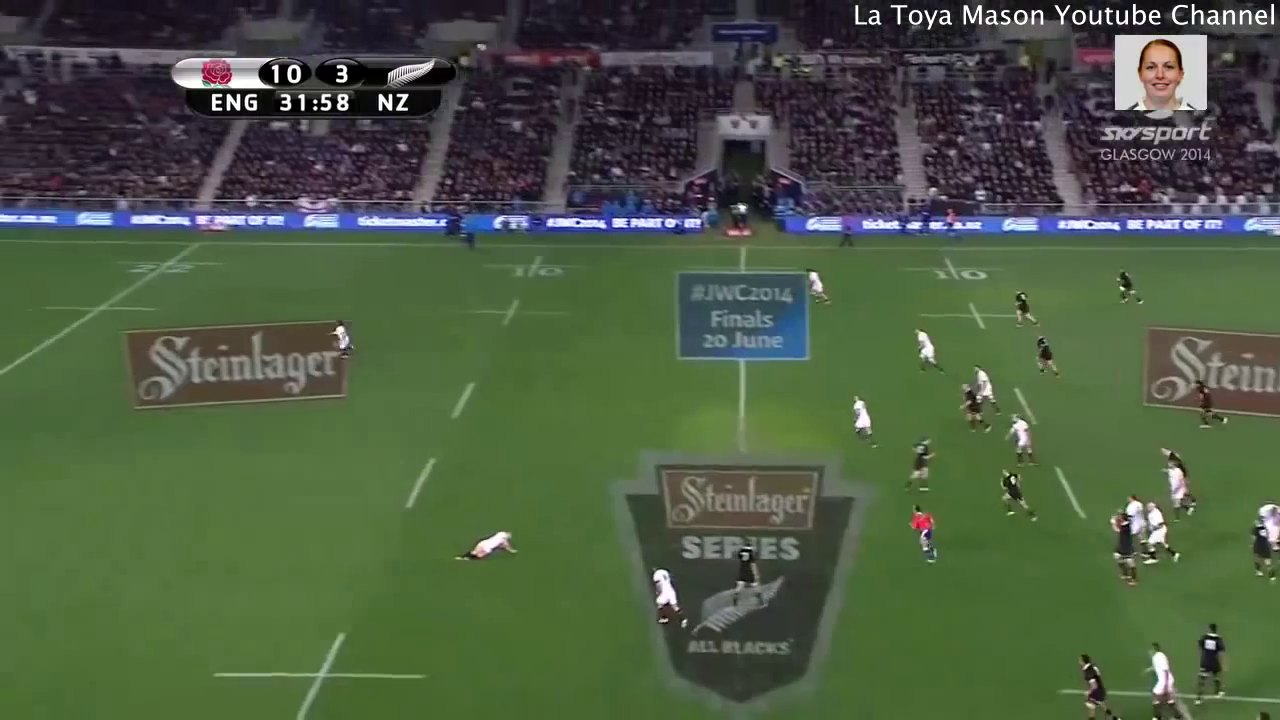10_metre: (915, 300, 1042, 332), (462, 296, 575, 330), (479, 253, 588, 284), (896, 255, 1007, 284)
player: (726, 536, 773, 616), (1073, 651, 1124, 720), (1191, 621, 1231, 708), (1141, 641, 1185, 720), (644, 560, 692, 632), (1106, 510, 1143, 589), (997, 464, 1042, 522), (1143, 501, 1184, 564), (896, 434, 934, 496), (905, 504, 943, 566), (845, 393, 883, 454), (453, 529, 521, 563), (953, 380, 994, 436), (909, 324, 947, 382), (1193, 375, 1233, 430), (1160, 460, 1196, 520), (1248, 518, 1280, 585), (1001, 412, 1039, 468), (324, 316, 360, 364), (969, 364, 1003, 412), (1121, 494, 1145, 562), (1033, 332, 1064, 379), (1110, 265, 1146, 305), (1009, 290, 1045, 329), (801, 264, 831, 309), (1257, 498, 1280, 555), (1162, 446, 1190, 481)
